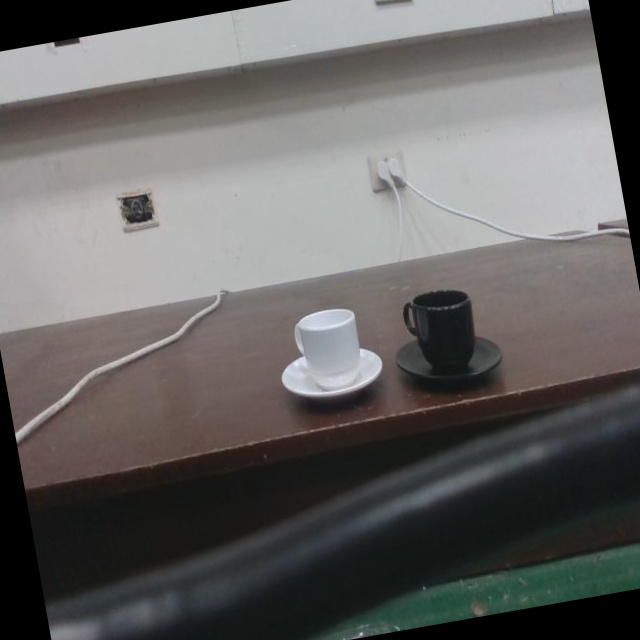black: (391, 286, 500, 392)
white: (276, 305, 383, 408)
